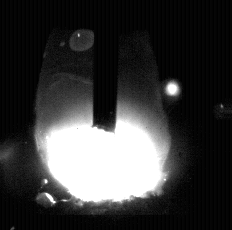arame: (93, 0, 118, 133)
poca: (34, 0, 171, 230)
